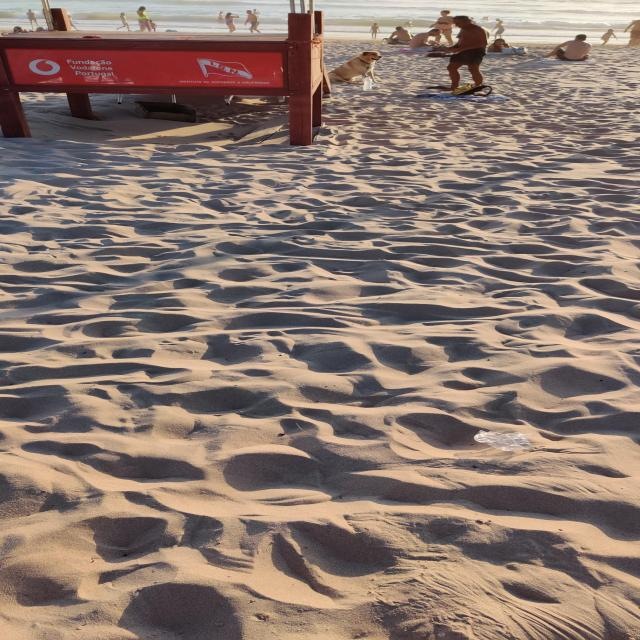litter: (475, 430, 534, 451), (363, 77, 372, 91)
